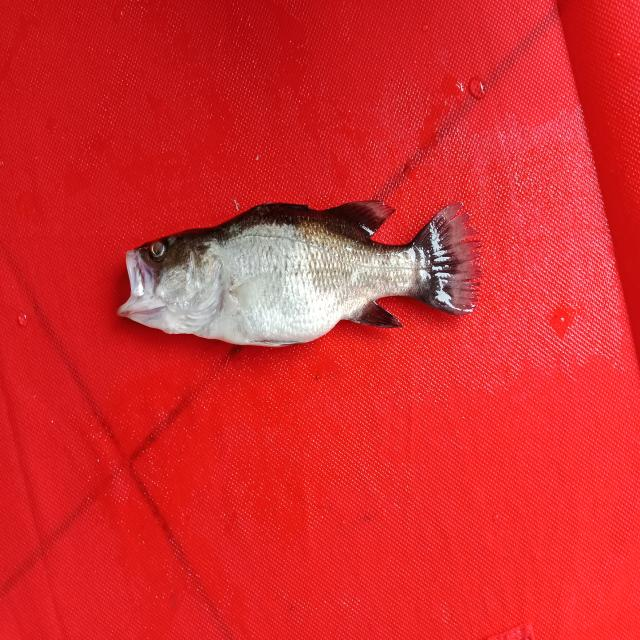ikan: (111, 177, 505, 366)
